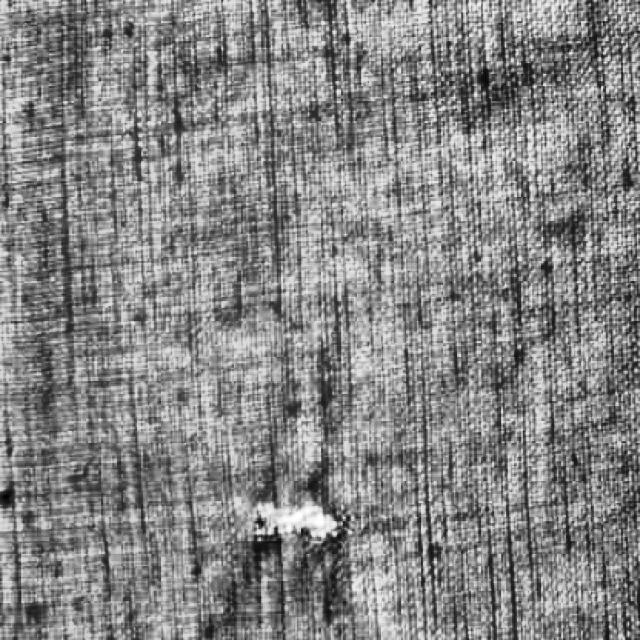hole: (237, 485, 355, 556)
